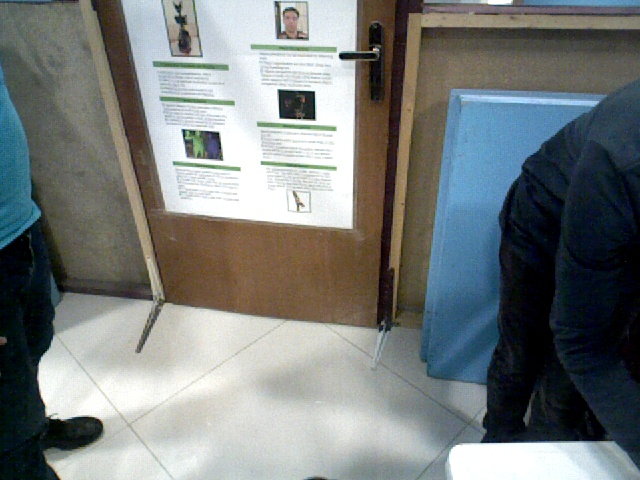door_handle: (340, 19, 389, 107)
